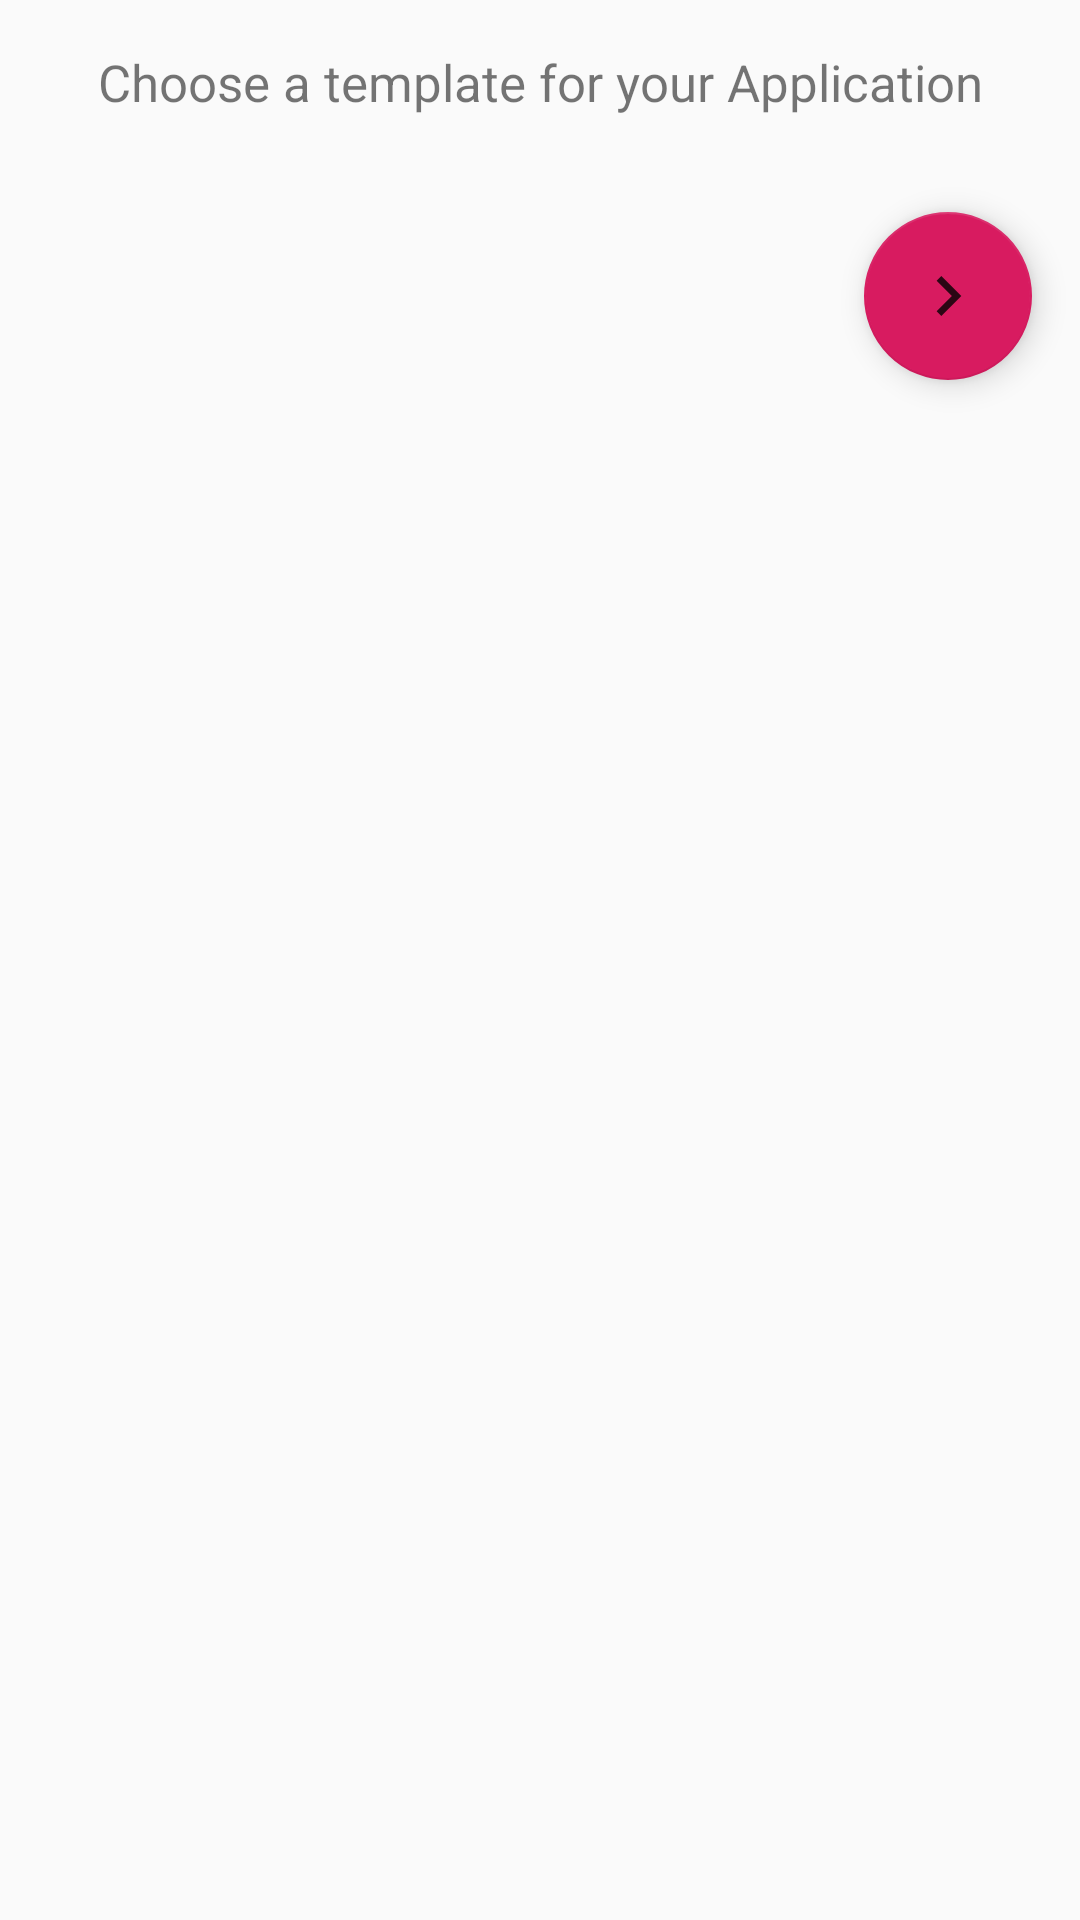

Named icons in this screenshot (1080px x 1920px) and their centers, point (x, y):
next: point (948, 296)
